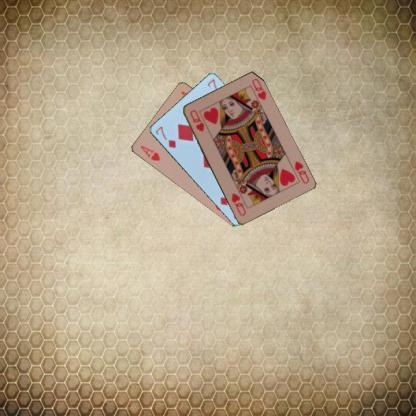7d: (152, 124, 176, 150)
Ah: (138, 142, 162, 162)
Qh: (187, 106, 205, 134), (291, 158, 310, 184)
